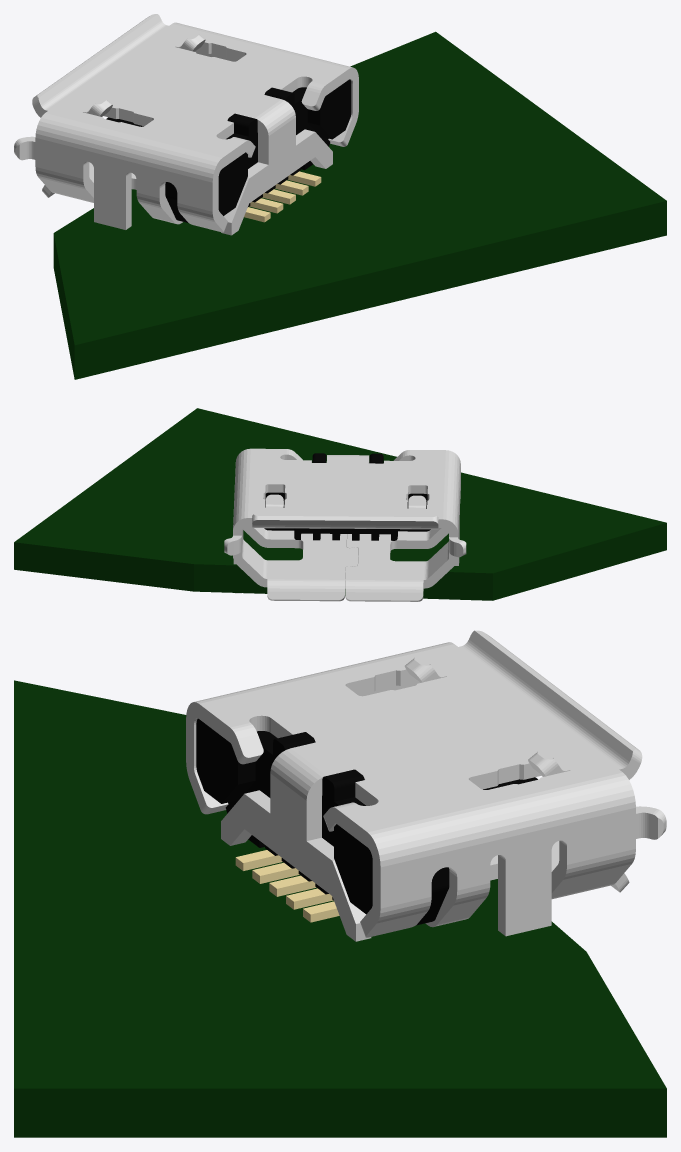
File: USBModule.gltf
The picture shows the model from 3 angles, top to bottom: view 1: azimuth 30°, elevation 25°; view 2: azimuth 150°, elevation 25°; view 3: azimuth 270°, elevation 25°; orthographic projection. The views are drawn at different scales.
Visible parts, largest first — view 1: PCB, MicroUSB; view 2: PCB, MicroUSB; view 3: PCB, MicroUSB.
Part boxes in pixels (left/top/right/bottom): PCB: left=53, top=31, right=666, bottom=379; MicroUSB: left=14, top=14, right=358, bottom=235; PCB: left=14, top=408, right=666, bottom=600; MicroUSB: left=224, top=448, right=466, bottom=601; PCB: left=14, top=680, right=666, bottom=1137; MicroUSB: left=186, top=630, right=666, bottom=941.
Bounding box in the file's own units: 0.0179 × 0.00384 × 0.0121.
